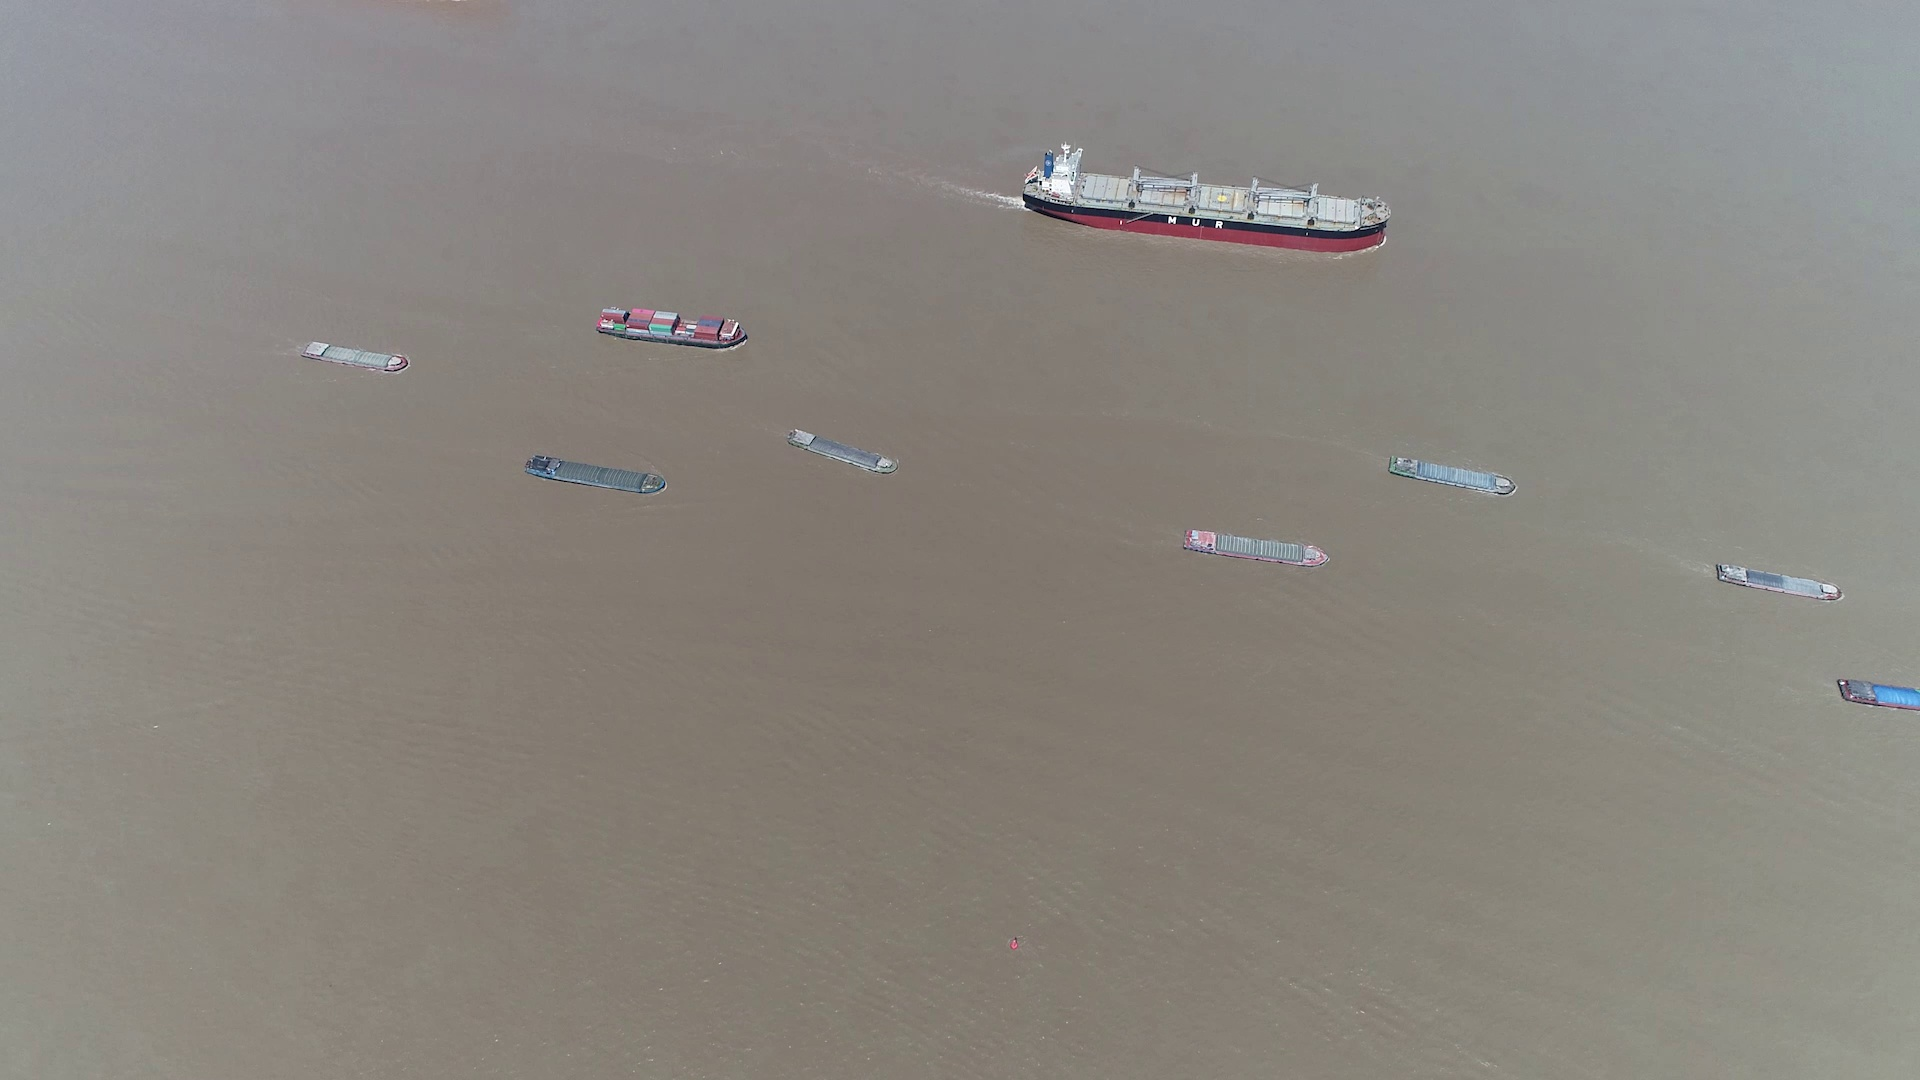ship: (1025, 149, 1389, 251), (596, 305, 750, 349), (1184, 527, 1331, 568), (525, 456, 666, 497), (1387, 455, 1516, 497), (1713, 562, 1844, 603), (791, 429, 899, 477), (301, 339, 409, 375), (1836, 676, 1919, 713)
